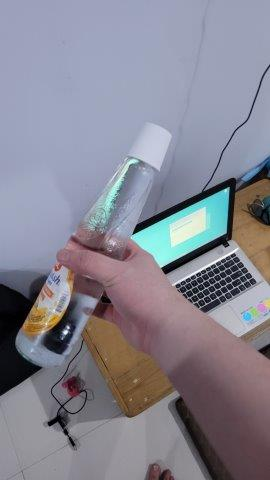botolkaca: (11, 124, 171, 369)
